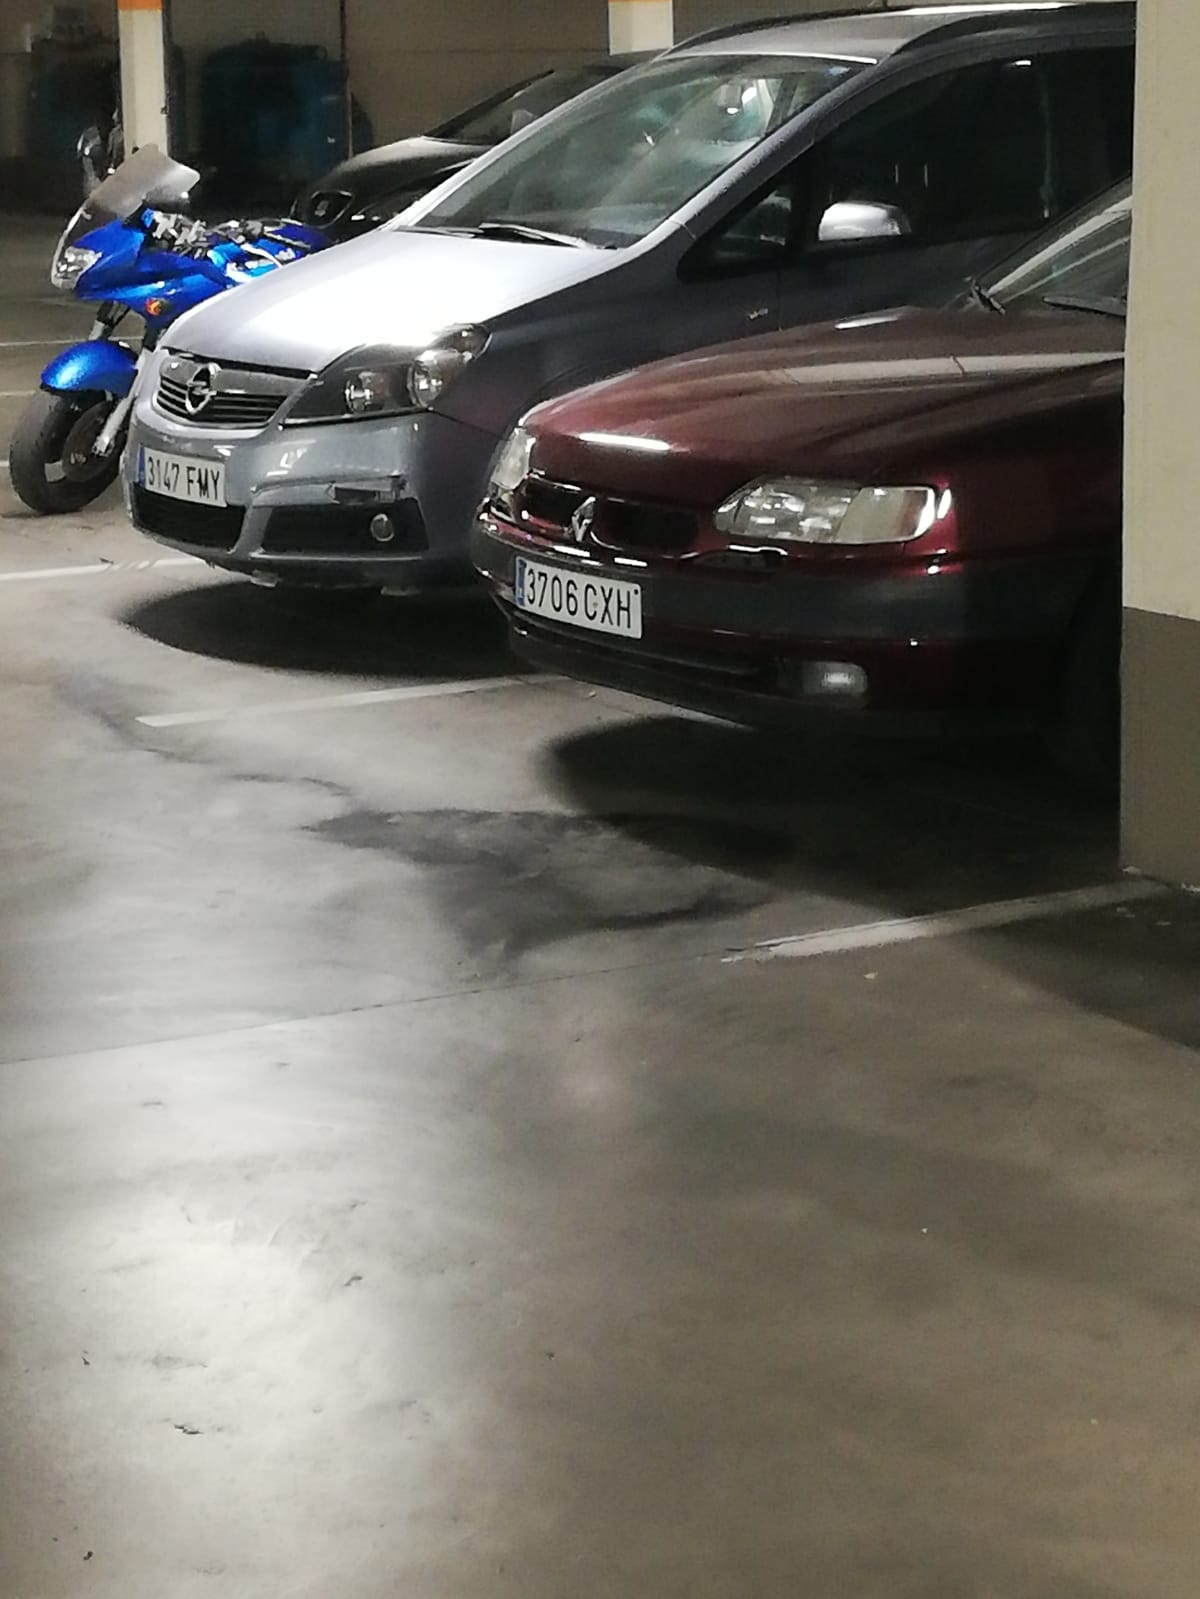Car: (453, 262, 1123, 762), (123, 216, 473, 636)
Plate: (524, 551, 645, 611), (143, 443, 233, 485)
